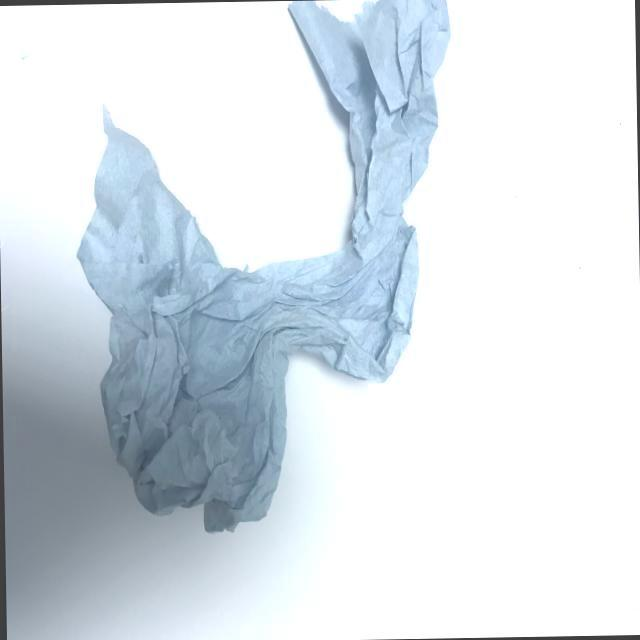paper: (49, 0, 470, 552)
